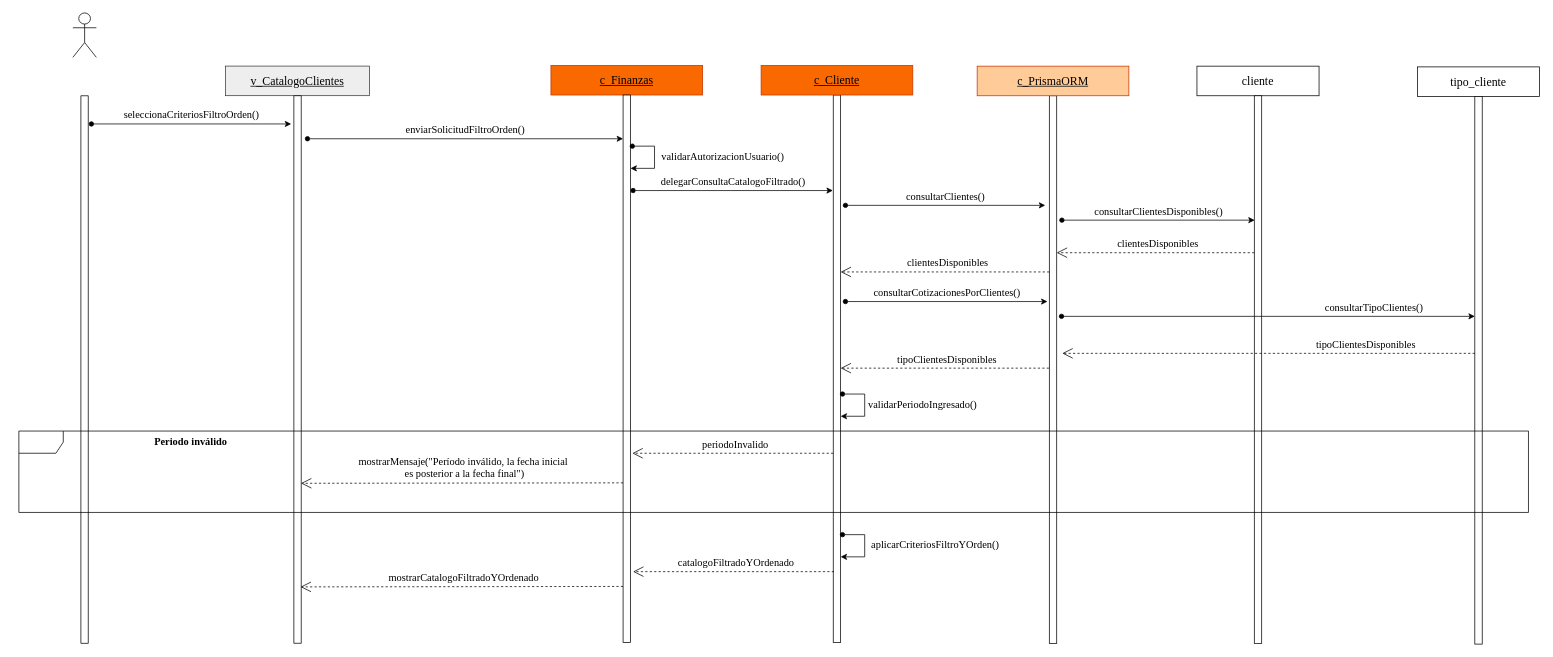
Some shapes in this 1553 by 657 pixel diagram are drawn without their labels. The box of each missing label's shape, as (x1, y1, x2, y2) in pixels:
Exc1: (18, 430, 1528, 512)
Usuario Autorizado Gerencia, Secretaria o Contador: (72, 12, 96, 57)
